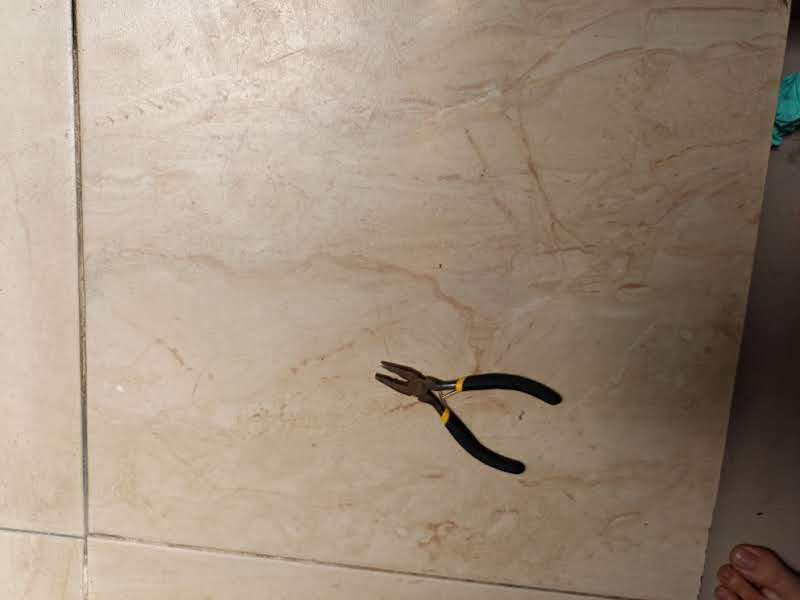Pinzas: (375, 362, 561, 473)
